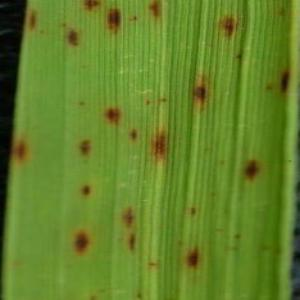Brown_Spot: (142, 122, 174, 169), (184, 74, 216, 114), (66, 226, 95, 259), (215, 11, 241, 45), (102, 4, 127, 39), (115, 203, 143, 233), (71, 134, 99, 163), (72, 174, 99, 201), (239, 154, 263, 184), (11, 131, 31, 165), (100, 102, 125, 129), (276, 64, 294, 99), (61, 26, 85, 51), (145, 1, 170, 24), (183, 243, 204, 269), (25, 7, 41, 39), (185, 199, 203, 226), (122, 229, 142, 253), (122, 125, 146, 144), (78, 1, 103, 19), (144, 254, 163, 272), (258, 241, 274, 257), (261, 80, 276, 97), (74, 96, 89, 111), (230, 49, 245, 64), (155, 93, 171, 107), (274, 5, 288, 20), (274, 245, 286, 262), (131, 289, 149, 300), (142, 95, 154, 109), (206, 187, 220, 199), (216, 157, 230, 168), (285, 154, 295, 169), (231, 231, 243, 243), (230, 244, 242, 255), (130, 12, 140, 24), (59, 20, 70, 30), (85, 293, 100, 300), (38, 27, 47, 38)
